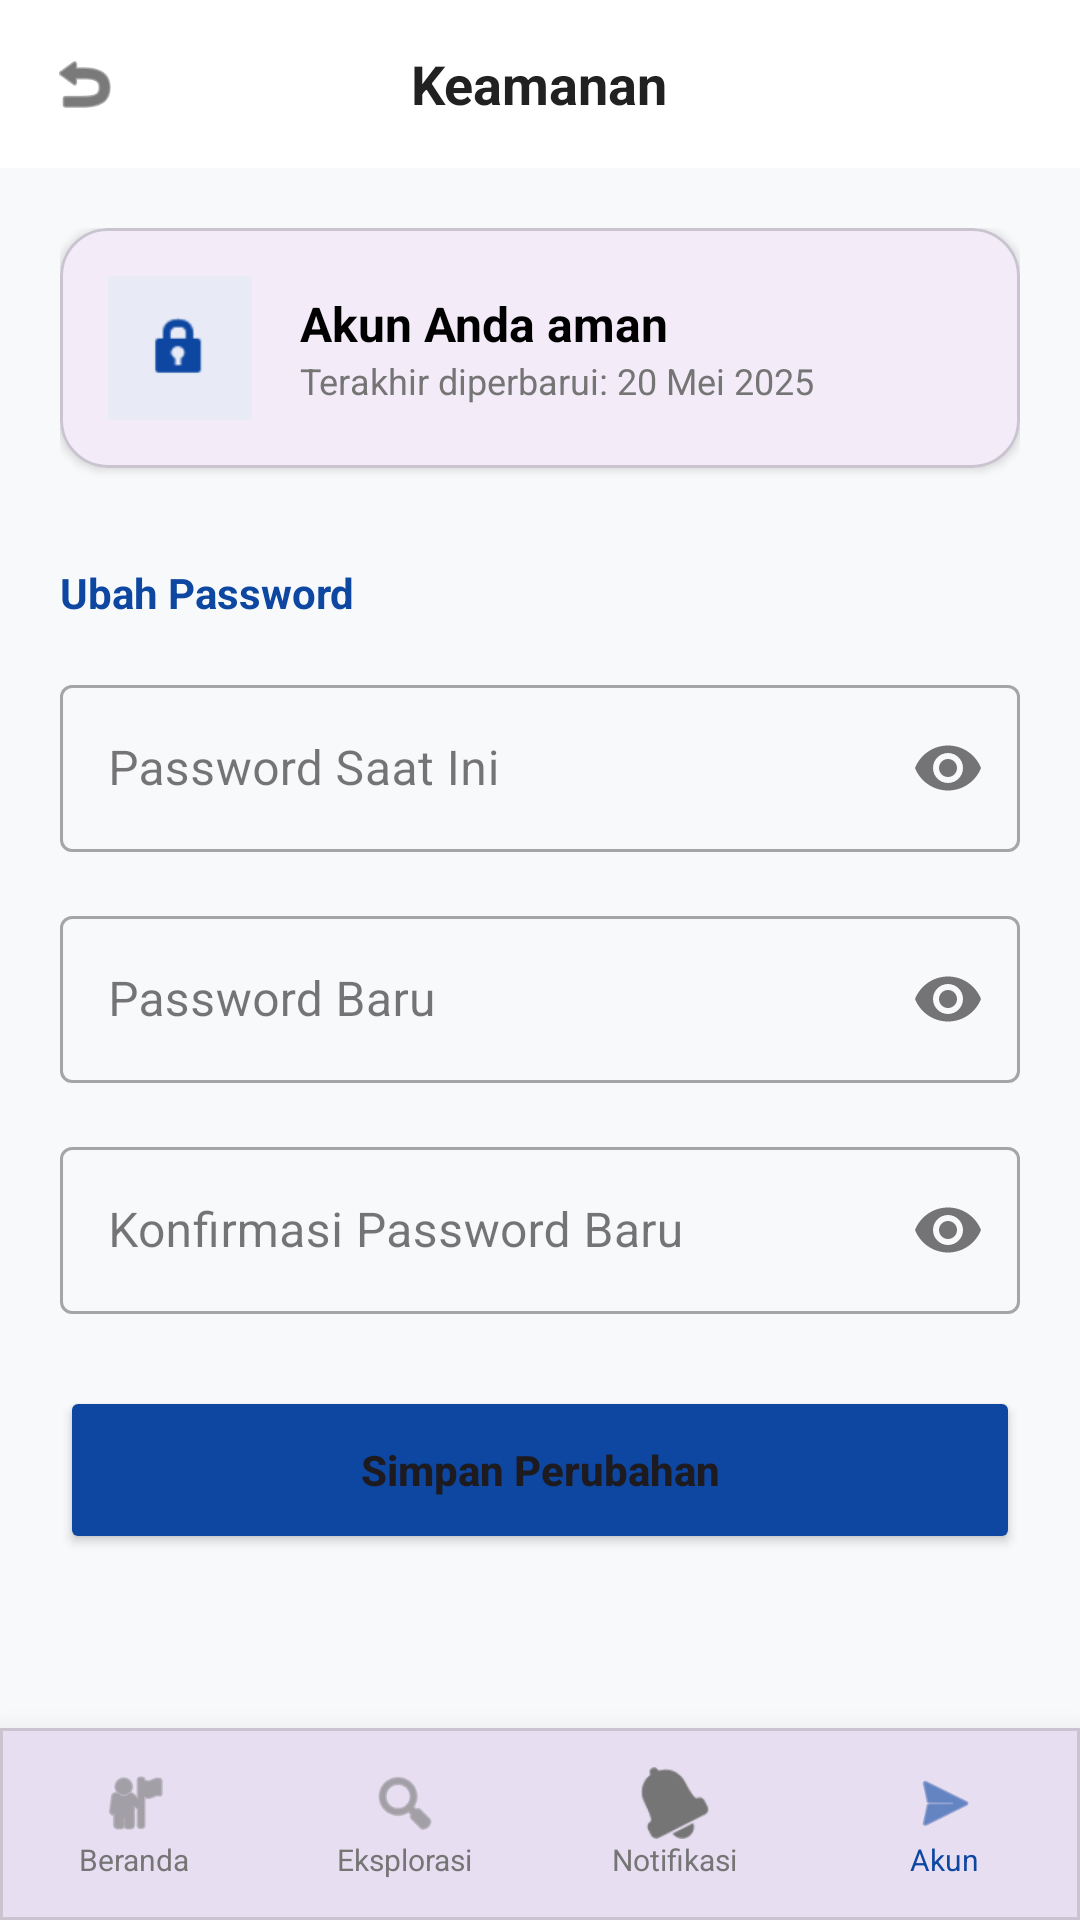

Screen size 1080 x 1920. Icon name, then its center in pixels as (x,y):
Back: (85,84)
Security Icon: (178,345)
